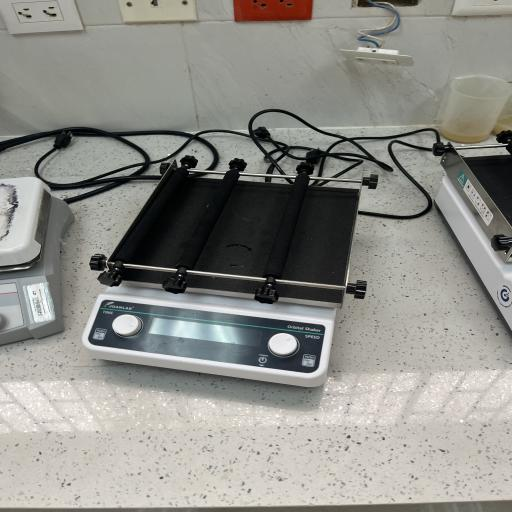Agitador_Orbital_DLAB: (73, 151, 395, 400)
